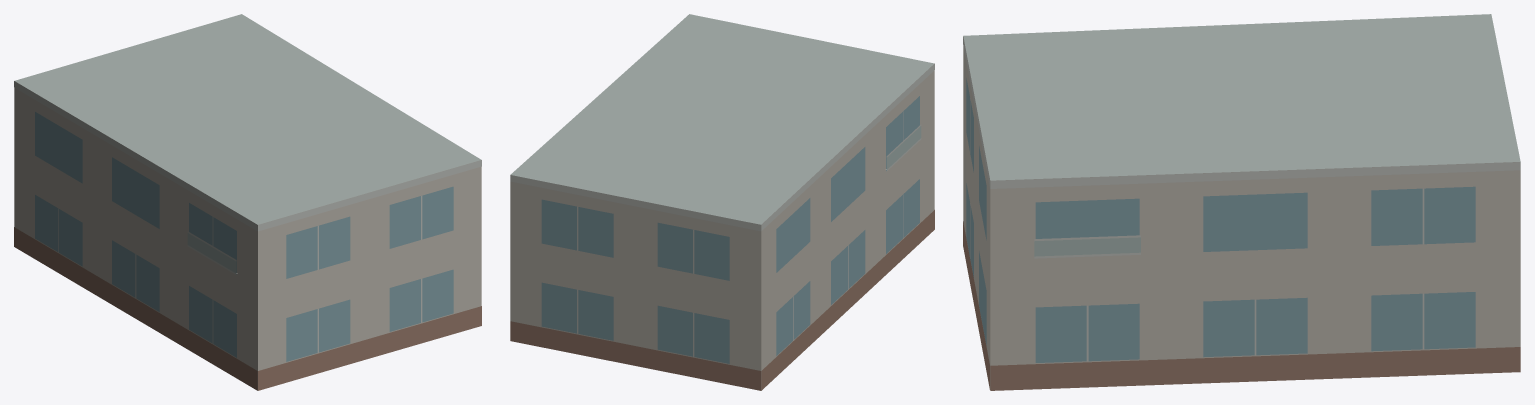
Rendered from survey-upis-32663067.glb.
The picture shows the model from 3 angles, left to right: view 1: azimuth 30°, elevation 25°; view 2: azimuth 150°, elevation 25°; view 3: azimuth 270°, elevation 25°; orthographic projection. The views are drawn at different scales.
Parts seen in each view (by area): view 1: survey-upis-32663067.tmp; view 2: survey-upis-32663067.tmp; view 3: survey-upis-32663067.tmp.
Part boxes in pixels (x1=…): survey-upis-32663067.tmp: x1=14, y1=14, x2=481, y2=390; survey-upis-32663067.tmp: x1=510, y1=14, x2=934, y2=390; survey-upis-32663067.tmp: x1=963, y1=14, x2=1520, y2=390.
Size of the model in its own units: 10.38 by 6.1 by 14.67.
